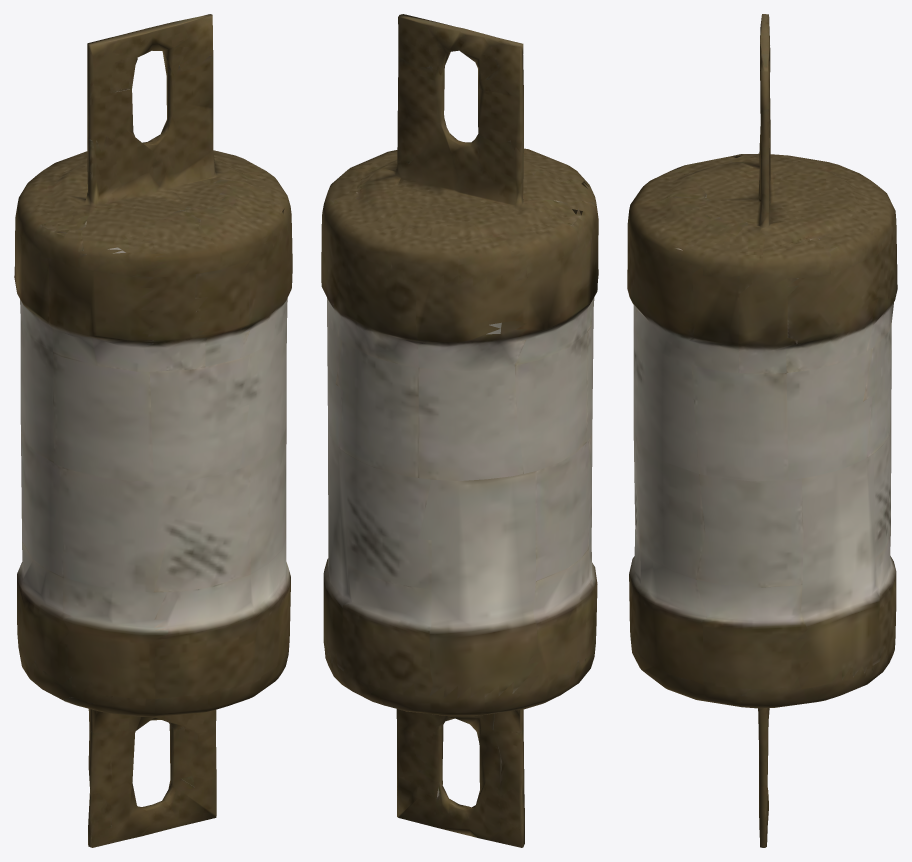
The model's file is fuse.glb.
3 views of the same model, side by side, from view 1: azimuth 30°, elevation 25°; view 2: azimuth 150°, elevation 25°; view 3: azimuth 270°, elevation 25° (orthographic). The views are drawn at different scales.
Bounding box in the file's own units: 0.3141 × 1 × 0.3158.
Materials: 1 (1 with a texture image).
